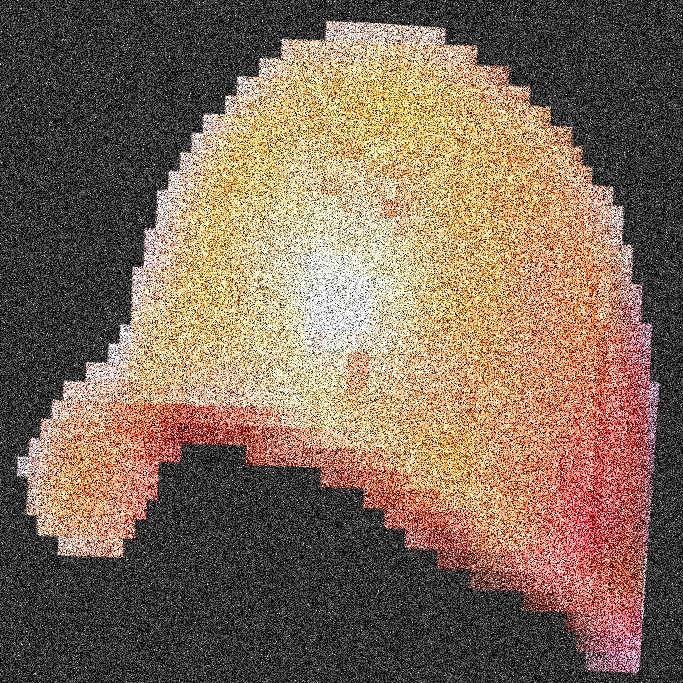Capacete: (349, 0, 572, 682)
